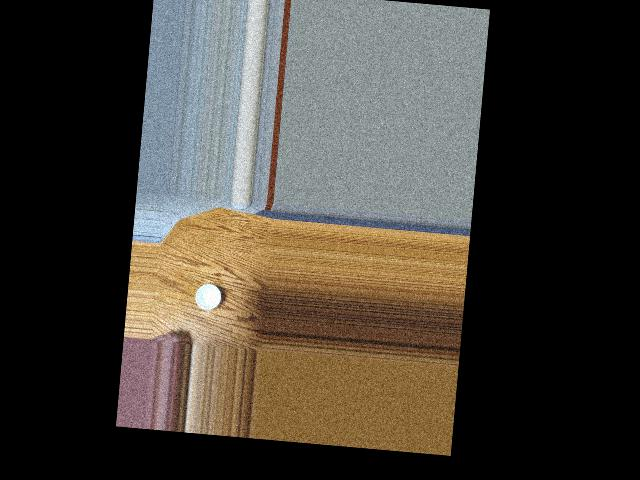cotage: (189, 280, 221, 316)
